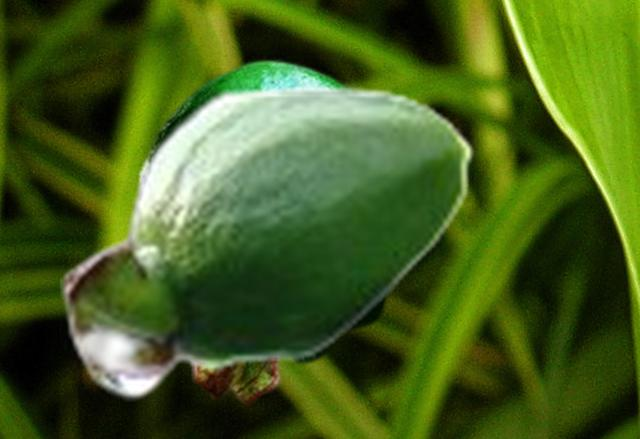guava: (60, 82, 474, 400), (135, 57, 396, 406)
